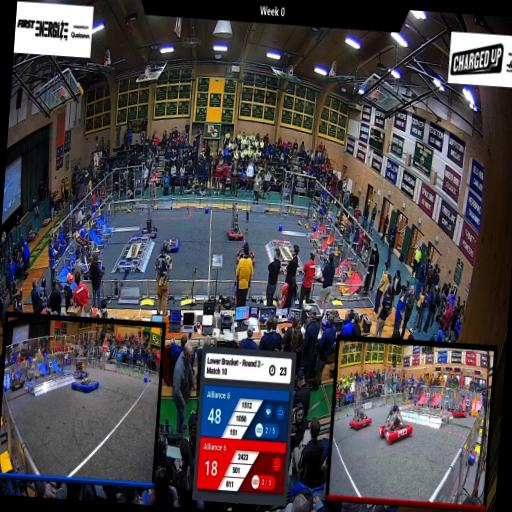robot: (78, 238, 110, 282), (224, 204, 246, 244), (316, 249, 336, 289), (140, 204, 160, 242), (234, 238, 258, 268), (162, 228, 182, 256)
